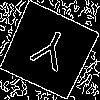Y: (24, 25, 74, 81)
